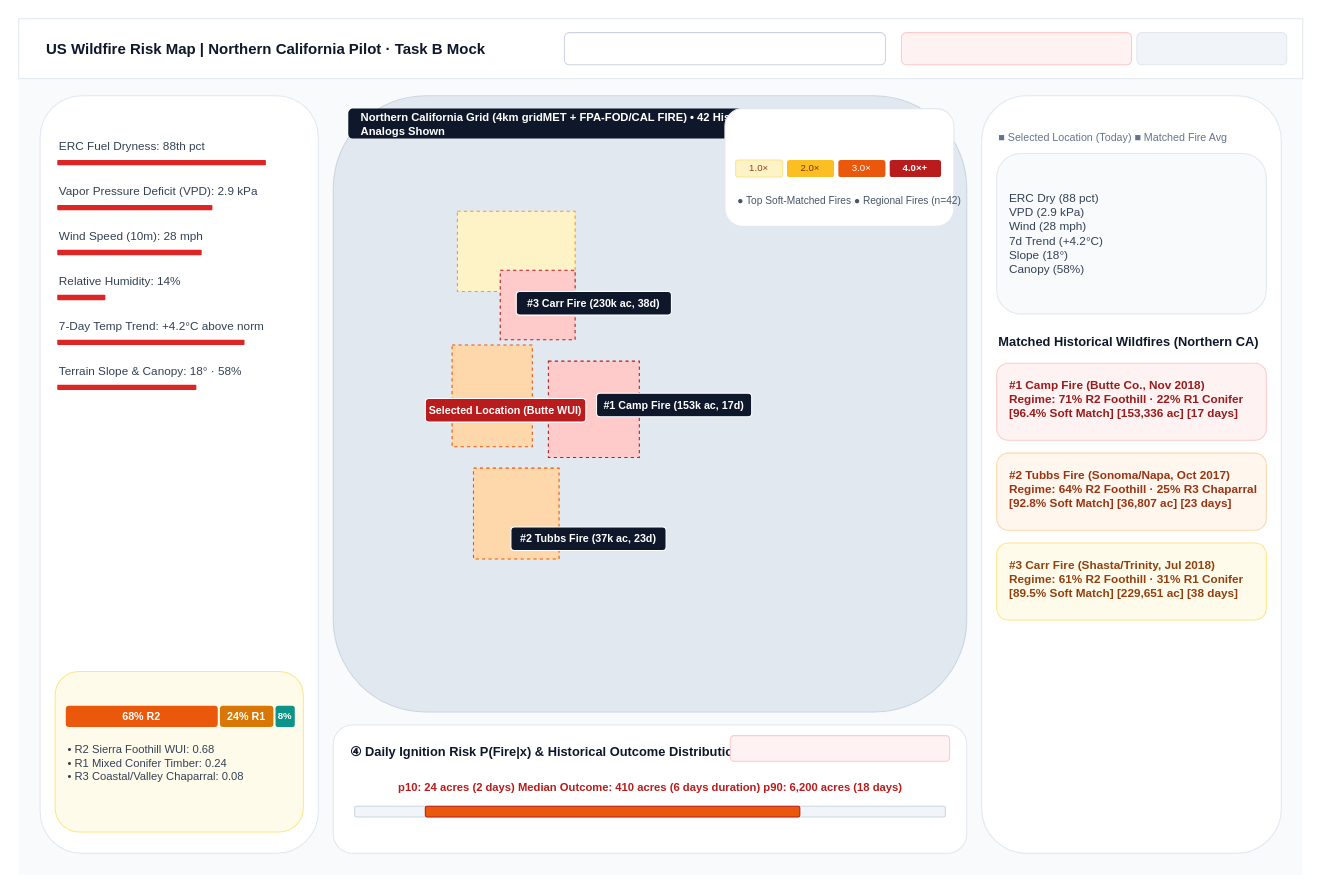
This 1321x893 diagram has some shape labels left out. Each missing label, with the box of its shape:
3.8× Seasonal Baseline · High Danger: (729, 735, 950, 761)
Hard Single-Cluster Baseline: (1136, 32, 1287, 65)
Northern California Region (focus: Butte County WUI) ▾: (563, 32, 885, 65)
Soft GMM Mixture + Bounded Lightness: (900, 32, 1132, 65)
① Daily Weather & Terrain Drivers: (39, 95, 318, 853)
② Soft Regime Membership P(Cₖ|x): (54, 670, 303, 832)
③ Bounded Lightness Risk P(Fire|x) = Σₖ P(Fire|Cₖ)·P(Cₖ|x): (724, 108, 954, 226)
⑤ Environmental Profile Comparison: (981, 95, 1281, 853)
